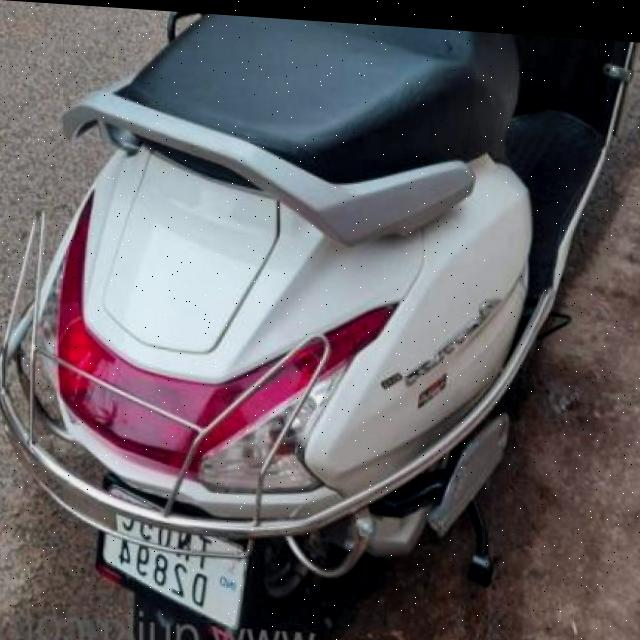plate: (97, 508, 253, 629)
